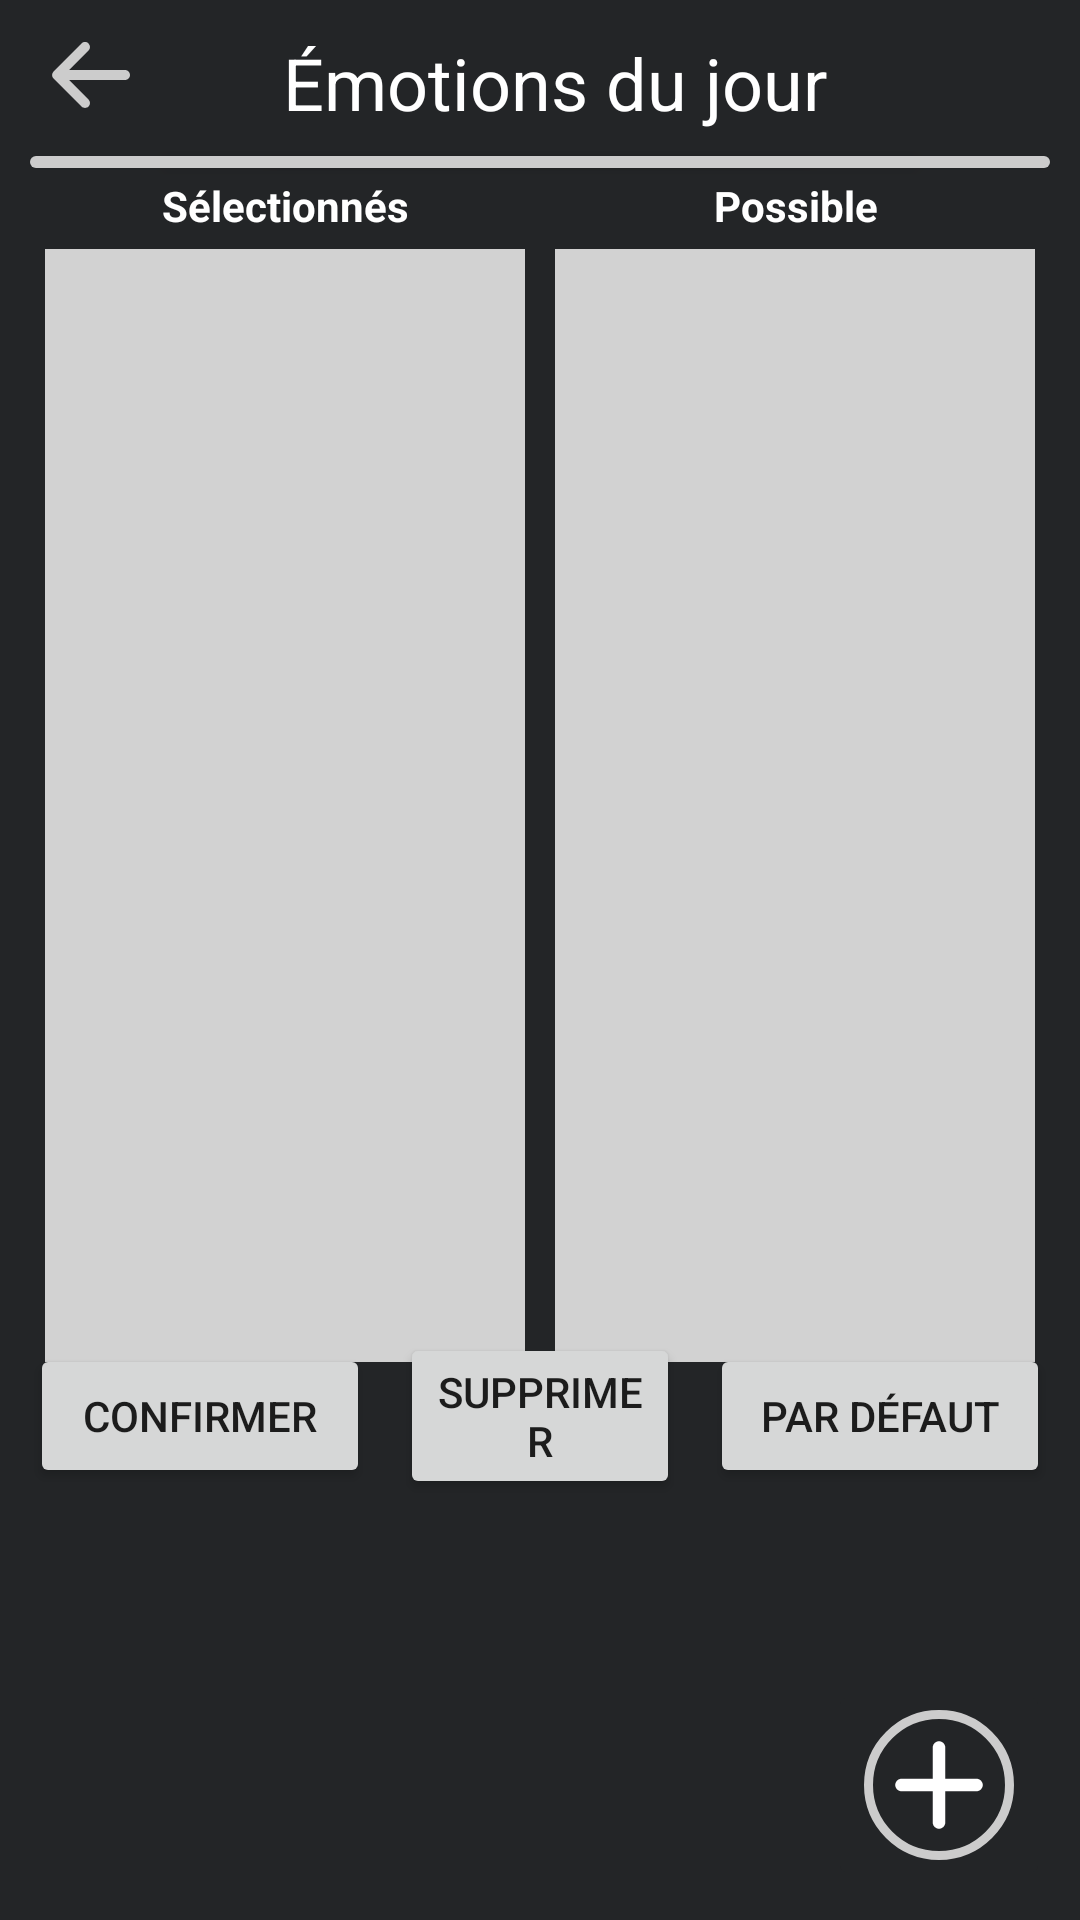

Screen size 1080×1920. Icon name, then its center in pixels as (x=x, y=y):
arrow left: (x=91, y=75)
Clickable button to add new activity: (x=939, y=1785)
